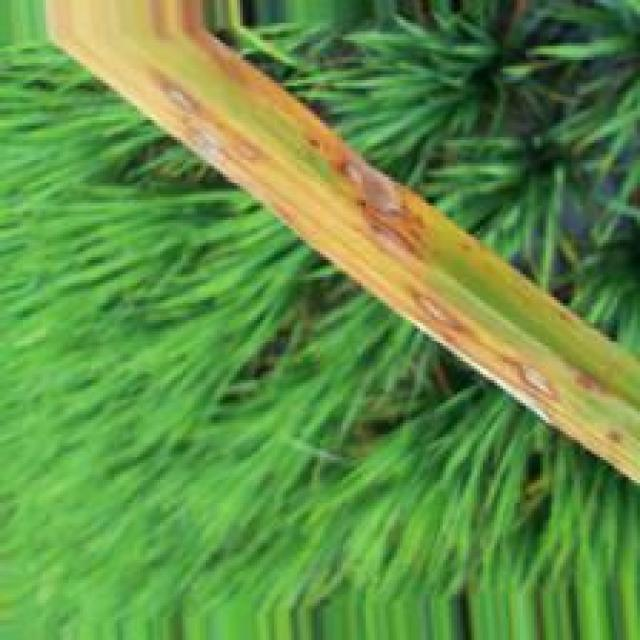Bacterial_Leaf_Blight: (43, 0, 635, 475)
